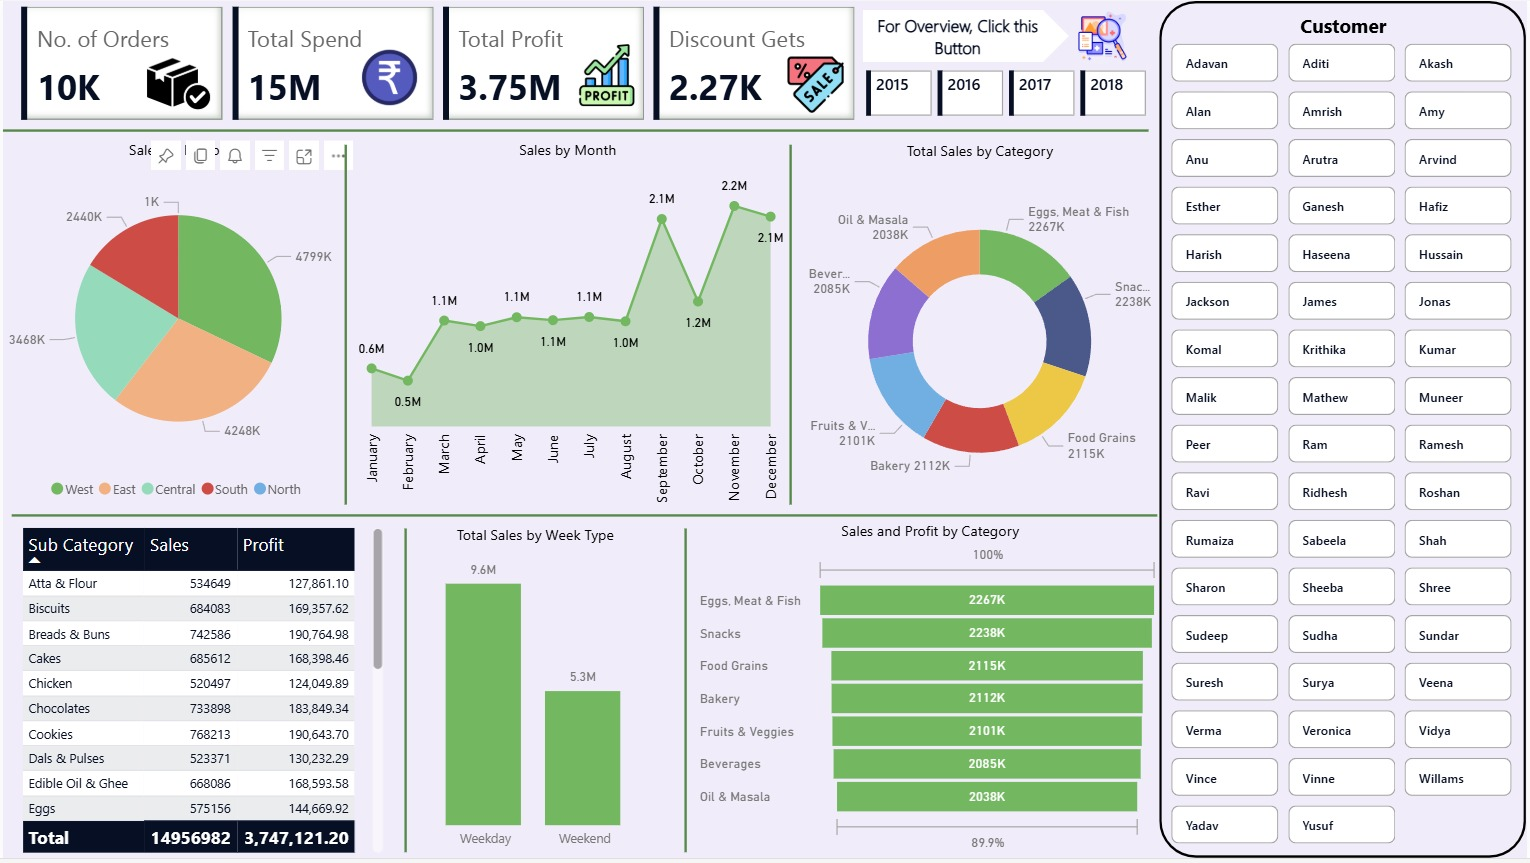

The dashboard page shown, as its layout file describes it:
{"tool":"powerbi","page":{"name":"Customer Analysis","canvas":[1280,720],"ordinal":1},"visuals":[{"type":"tableEx","fields":{"Values":["cleaned_supermart_sales.sub_category","Sum(cleaned_supermart_sales.sales)","Sum(cleaned_supermart_sales.profit)"]},"box":[10.7,437.5,313.7,282.8],"z":0},{"type":"lineChart","fields":{"Category":["custom_calender.date.Variation.Date Hierarchy.Month"],"Y":["Sum(cleaned_supermart_sales.sales)"]},"box":[287.2,116.3,375.6,322.1],"z":1000},{"type":"donutChart","title":"Total Sales by Category","fields":{"Y":["Sum(cleaned_supermart_sales.sales)"],"Category":["cleaned_supermart_sales.category"]},"box":[668.6,117.4,303.5,320.9],"z":2000},{"type":"advancedSlicerVisual","fields":{"Values":["custom_calender.date.Variation.Date Hierarchy.Year"]},"box":[720.9,53.5,248.8,48.8],"z":3000},{"type":"pieChart","fields":{"Y":["Sum(cleaned_supermart_sales.sales)"],"Category":["cleaned_supermart_sales.region"]},"box":[0,116.2,295,311.2],"z":4000},{"type":"shape","box":[280.2,120.9,15.1,302.3],"z":5000},{"type":"shape","box":[655.8,120.9,12.8,302.3],"z":6000},{"type":"shape","box":[7.5,425,962.5,13.8],"z":7000},{"type":"cardVisual","fields":{"Data":["Count(cleaned_supermart_sales.order_id)","Sum(cleaned_supermart_sales.sales)","Sum(cleaned_supermart_sales.profit)","Sum(cleaned_supermart_sales.discount)"]},"box":[10.5,0,710.5,105.8],"z":8000},{"type":"funnel","fields":{"Category":["cleaned_supermart_sales.category"],"Y":["Sum(cleaned_supermart_sales.sales)"]},"box":[580.2,437.2,396.5,282.6],"z":9000},{"type":"columnChart","title":"Total Sales by Week Type","fields":{"Category":["cleaned_supermart_sales.week_type"],"Y":["Sum(cleaned_supermart_sales.sales)"]},"box":[292.4,439.6,310.5,280.6],"z":10000},{"type":"shape","box":[567.4,443,12.8,272.1],"z":11000},{"type":"shape","box":[331.8,442.8,12.8,272.1],"z":12000},{"type":"shape","box":[971.9,0,308.1,719.8],"z":13000},{"type":"advancedSlicerVisual","fields":{"Values":["cleaned_supermart_sales.customer_name"]},"box":[976.7,9.3,298.8,710.5],"z":14000},{"type":"image","box":[894.2,4.7,59.3,53.5],"z":15000},{"type":"shape","box":[722.1,7,173.3,44.2],"z":16000},{"type":"textbox","box":[718.6,5.8,167.4,47.7],"z":17000},{"type":"image","box":[654.7,34.9,57,70.9],"z":17001},{"type":"image","box":[475.6,31.4,62.8,61.6],"z":17002},{"type":"image","box":[291.9,34.9,65.1,59.3],"z":17003},{"type":"image","box":[115.1,37.2,64,65.1],"z":17004},{"type":"shape","box":[0,102.3,962.8,14],"z":17005}]}

Visuals, with their boxes in screenshot pixels (x1, y1, x2, y2), scaled from the page's 1280x720 canvas onto the 1530x863 screenshot:
tableEx - cleaned_supermart_sales.sub_category x Sum(cleaned_supermart_sales.sales): detection(13, 524, 388, 862)
lineChart - custom_calender.date.Variation.Date Hierarchy.Month x Sum(cleaned_supermart_sales.sales): detection(343, 139, 792, 525)
"Total Sales by Category" donutChart: detection(799, 141, 1162, 525)
advancedSlicerVisual - custom_calender.date.Variation.Date Hierarchy.Year: detection(862, 64, 1159, 123)
pieChart - Sum(cleaned_supermart_sales.sales) x cleaned_supermart_sales.region: detection(0, 139, 353, 512)
shape: detection(335, 145, 353, 507)
shape: detection(784, 145, 799, 507)
shape: detection(9, 509, 1159, 526)
cardVisual - Count(cleaned_supermart_sales.order_id) x Sum(cleaned_supermart_sales.sales): detection(13, 0, 862, 127)
funnel - cleaned_supermart_sales.category x Sum(cleaned_supermart_sales.sales): detection(694, 524, 1167, 862)
"Total Sales by Week Type" columnChart: detection(350, 527, 721, 862)
shape: detection(678, 531, 694, 857)
shape: detection(397, 531, 412, 857)
shape: detection(1162, 0, 1529, 862)
advancedSlicerVisual - cleaned_supermart_sales.customer_name: detection(1167, 11, 1525, 862)
image: detection(1069, 6, 1140, 70)
shape: detection(863, 8, 1070, 61)
textbox: detection(859, 7, 1059, 64)
image: detection(783, 42, 851, 127)
image: detection(568, 38, 644, 111)
image: detection(349, 42, 427, 113)
image: detection(138, 45, 214, 123)
shape: detection(0, 123, 1151, 139)
